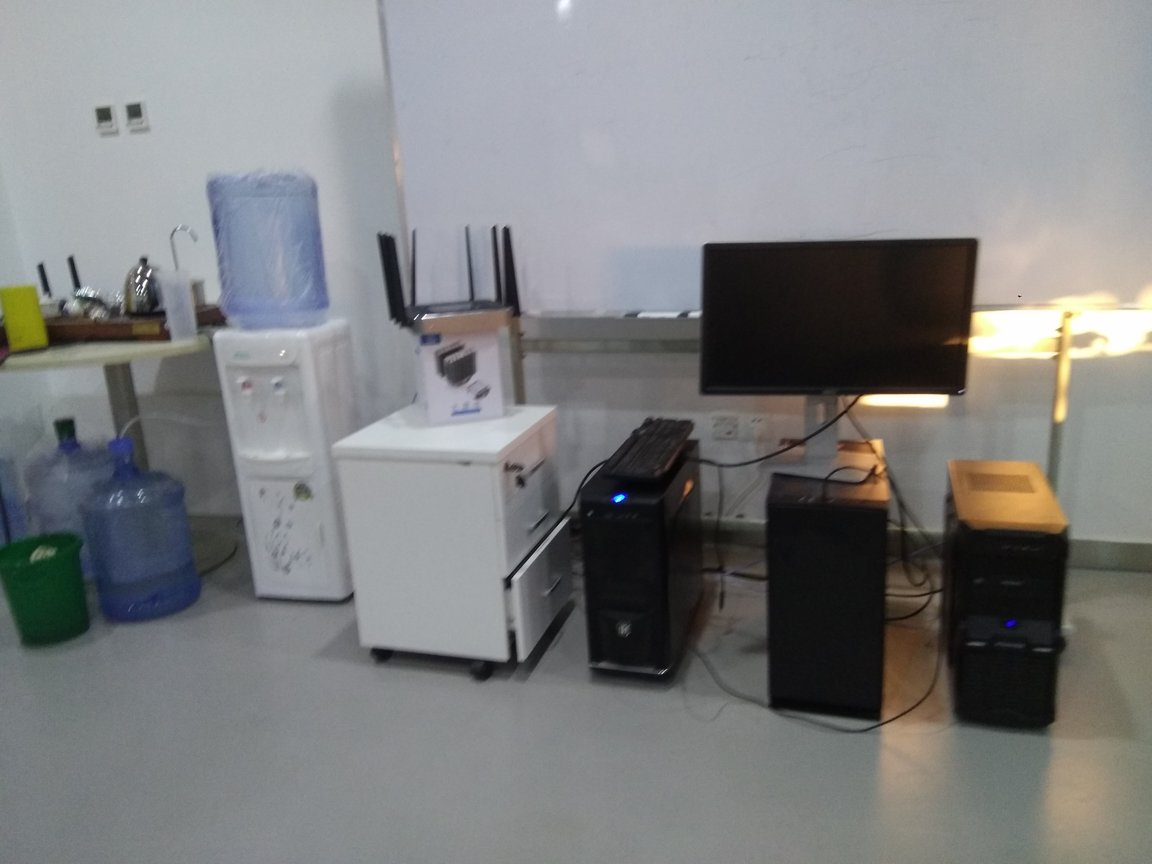computer: (936, 459, 1068, 732), (767, 438, 888, 729), (584, 440, 704, 698)
drawer chest: (333, 403, 564, 688)
monitor: (692, 228, 975, 493)
scuttlebutt: (84, 440, 207, 627), (200, 166, 337, 325), (21, 419, 118, 611)
water dispenser: (211, 318, 360, 613)
